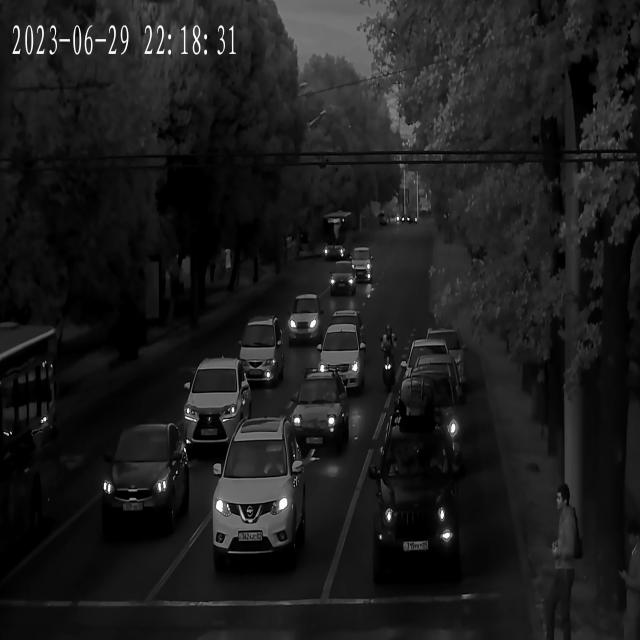Bus: (0, 314, 66, 580), (325, 208, 355, 262)
Car: (372, 429, 462, 587), (212, 416, 308, 563), (98, 418, 192, 537), (388, 367, 458, 491), (180, 352, 255, 453), (291, 370, 346, 460), (408, 353, 463, 431), (239, 316, 285, 384), (424, 326, 468, 394), (319, 322, 362, 390), (402, 338, 449, 398), (329, 308, 365, 372), (287, 292, 322, 347), (349, 248, 375, 289), (334, 261, 354, 292)
